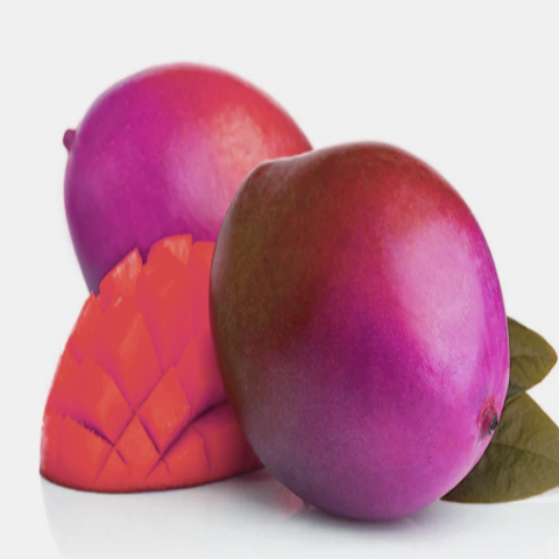mango: (195, 132, 533, 530), (35, 47, 351, 364)
